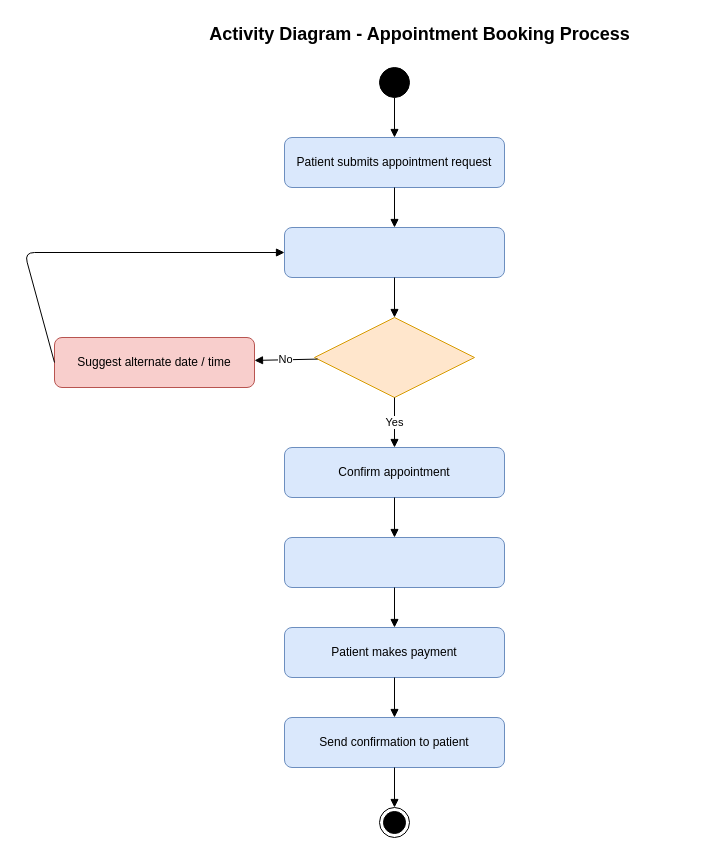
Some shapes in this 712 by 855 pixel diagram are drawn without their labels. The centre of each missing label's shape, as x and y in pixels:
"Generate bill" belongs at (394,562).
"Receptionist checks doctor availability" belongs at (394,252).
"Slot available?" belongs at (394,357).
